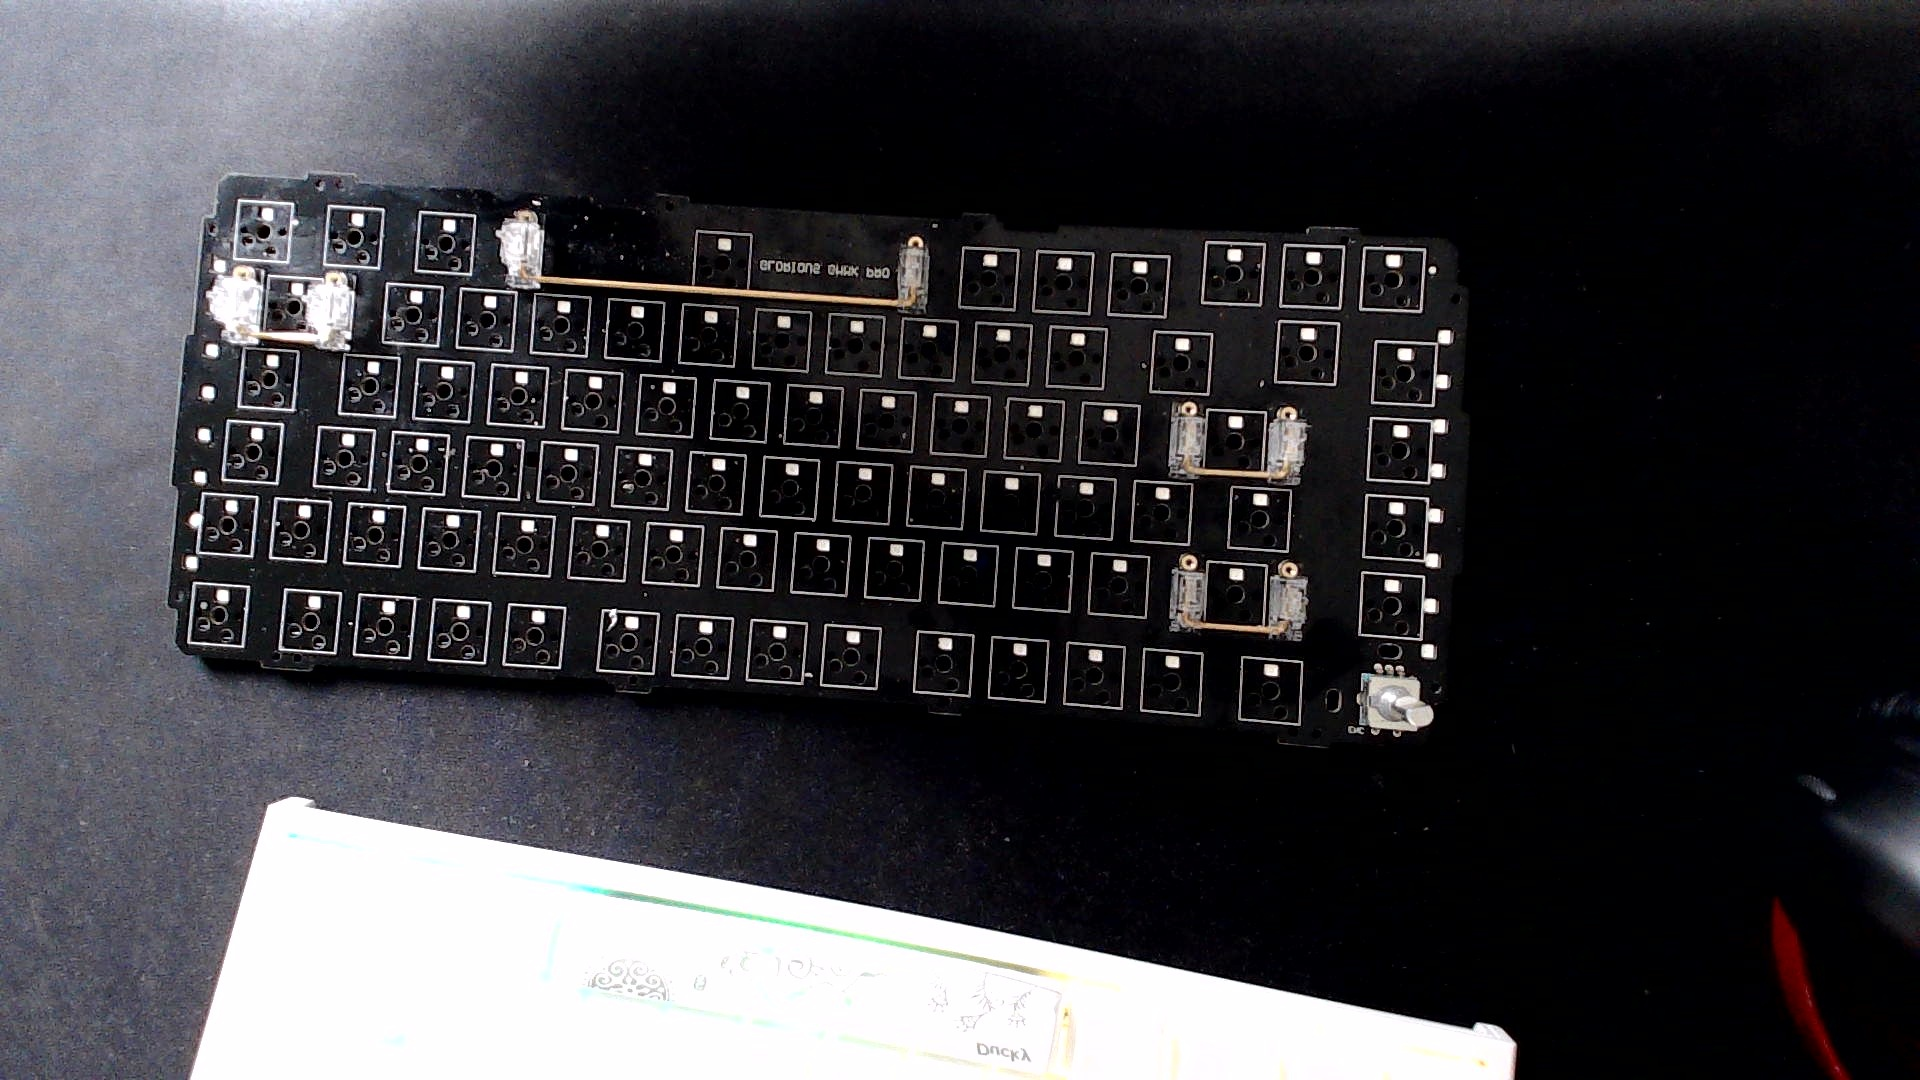pcb: (119, 150, 1520, 773)
